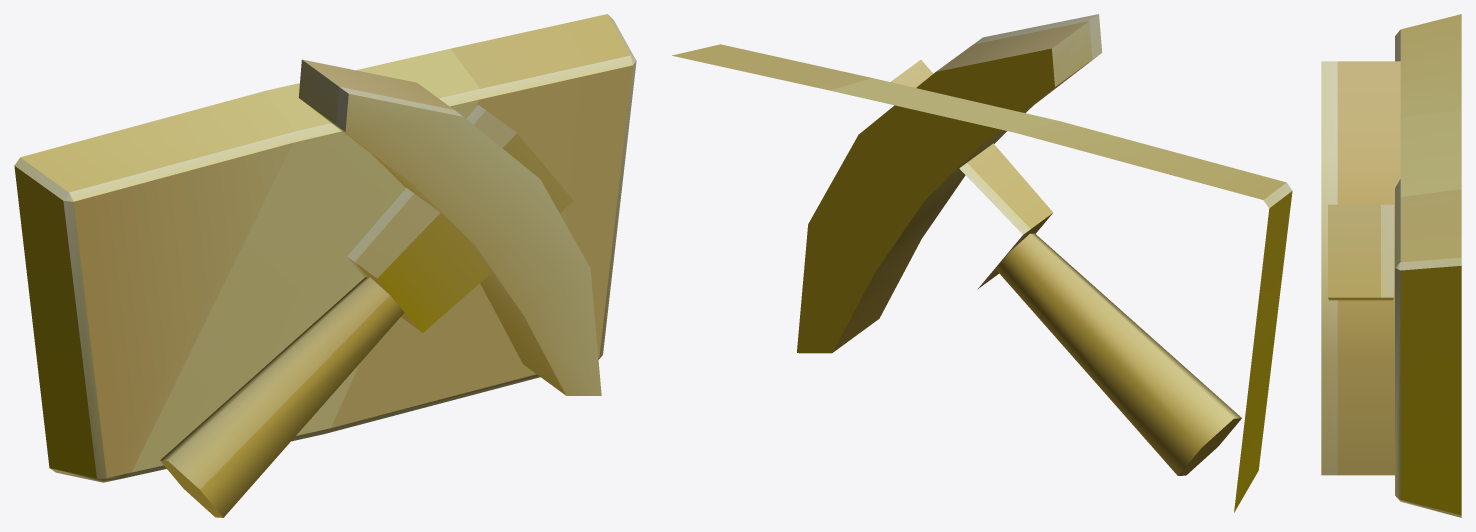
Rendered from GoldenPickBadge.glb.
3 views of the same model, side by side, from view 1: azimuth 30°, elevation 25°; view 2: azimuth 150°, elevation 25°; view 3: azimuth 270°, elevation 25° (orthographic). The views are drawn at different scales.
Visible parts, largest first — view 1: GoldenPickBadge; view 2: GoldenPickBadge; view 3: GoldenPickBadge.
Part boxes in pixels (x1,y1,x2,y2): GoldenPickBadge: [14, 14, 636, 517]; GoldenPickBadge: [672, 14, 1292, 512]; GoldenPickBadge: [1321, 14, 1461, 517].
Bounding box in the file's own units: 1.66 × 1.1 × 0.3979.
